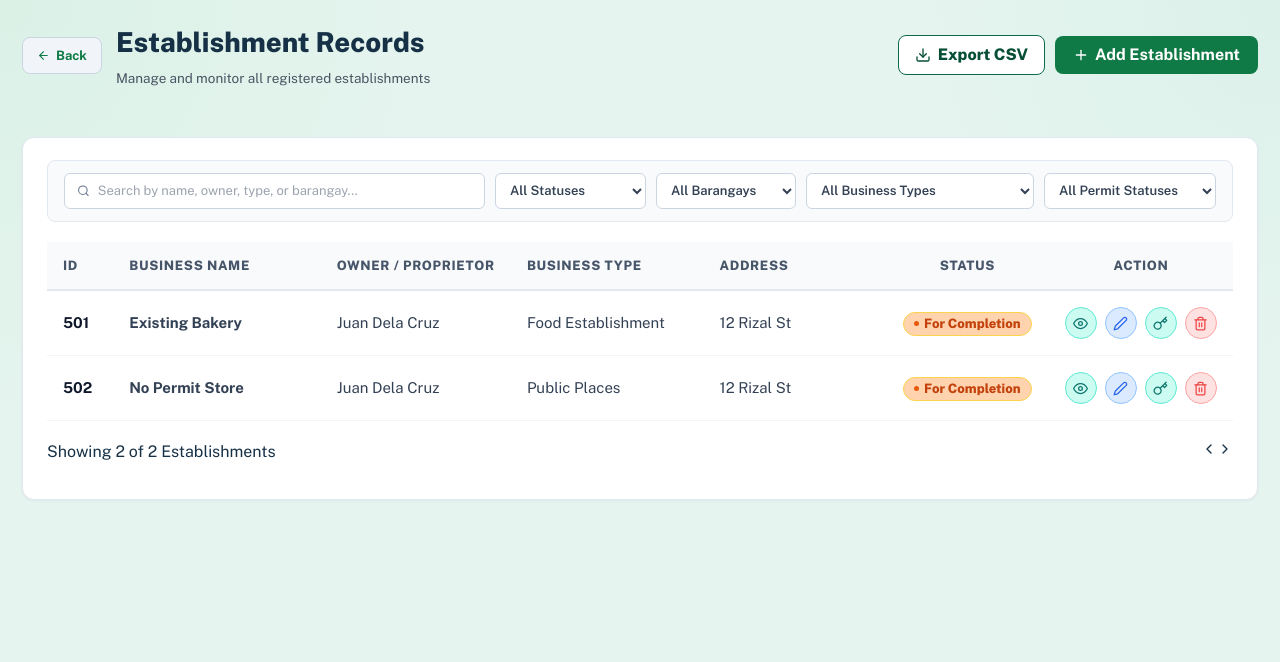
FOCUS 1: new Register form defaults › only establishment profile fields are shown, all empty by default
Click the button "Add Establishment". click: point(1156, 55)
box: [1055, 36, 1258, 74]
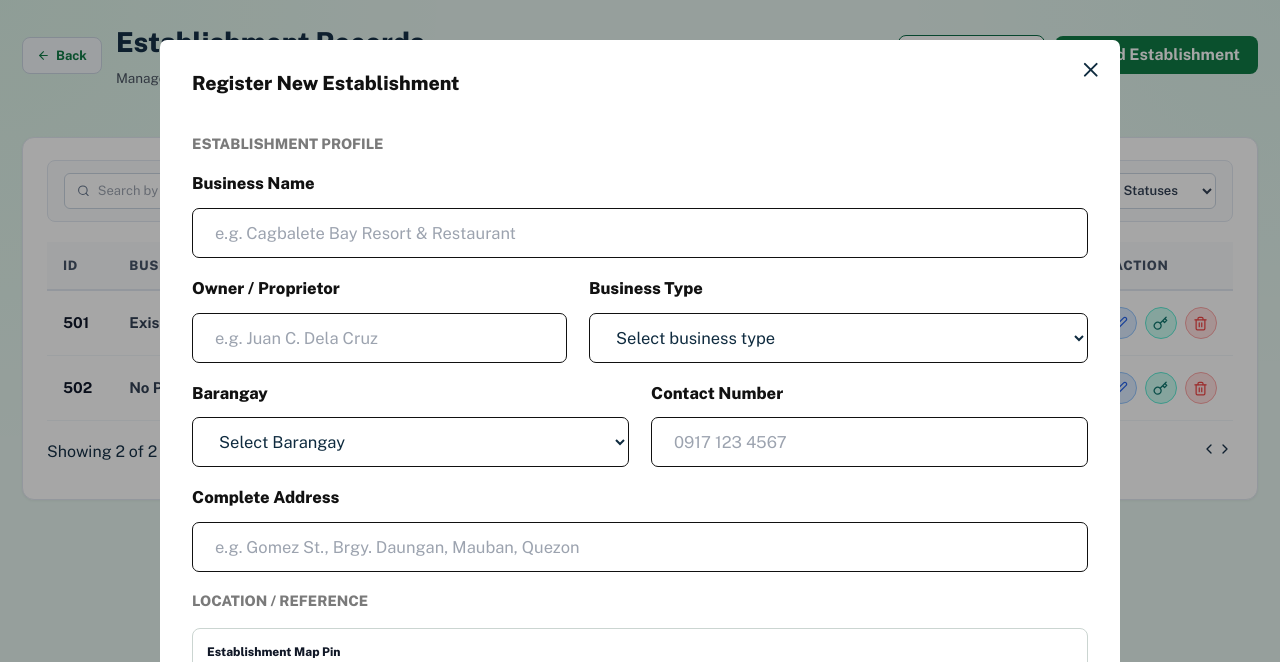
Check: the heading "Register New Establishment" is shown, box [192, 71, 460, 94]
